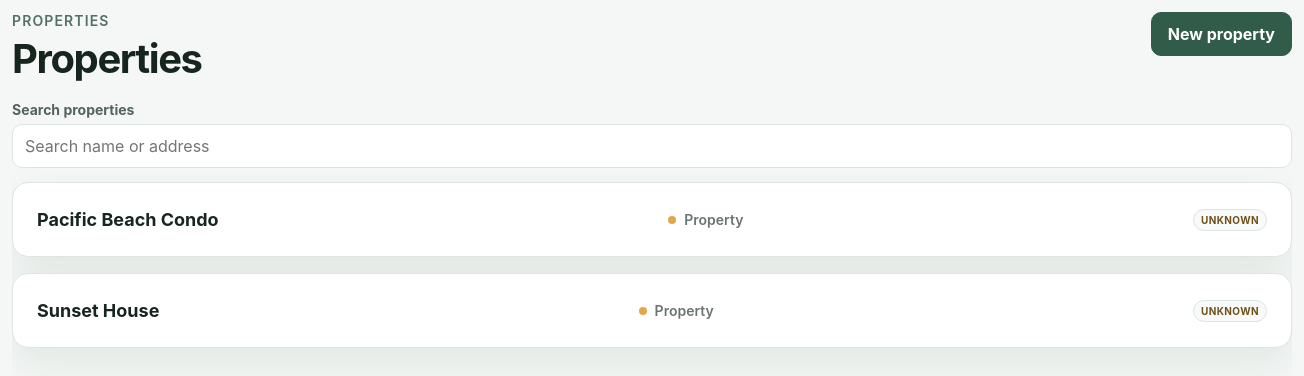
Test case: PropertyDirectory search › shows a local no-results message without mutating Properties
Type "not present" into the search field labelled "Search properties" at (652, 146), box [12,124,1292,168]
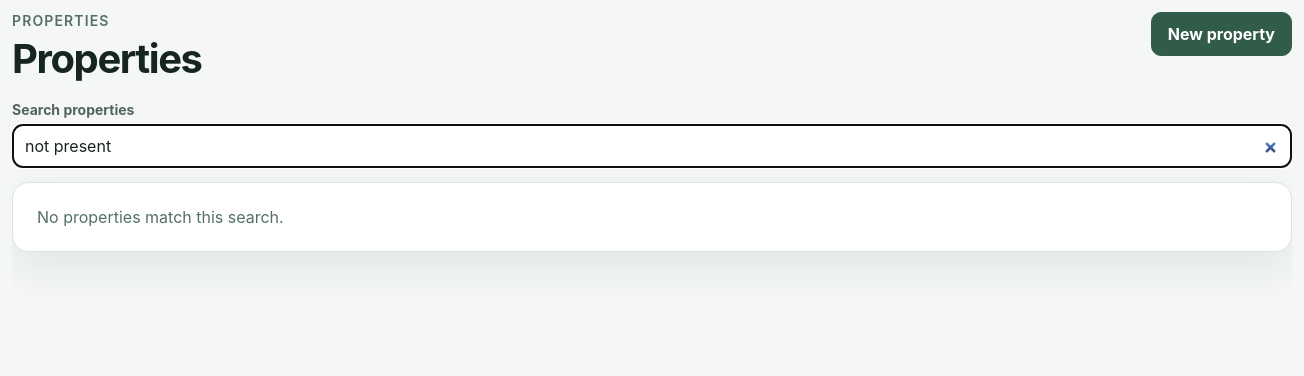
expect the text "No properties match this search." is shown: met, box [12,182,1292,252]
